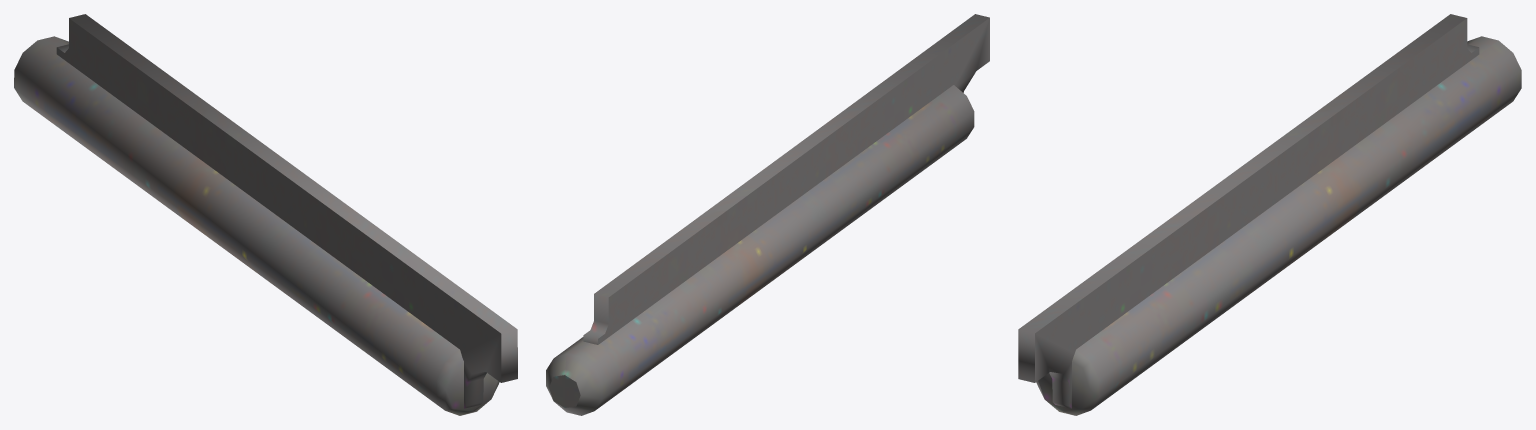
Rendered from acc5.obj.
3 views of the same model, side by side, from view 1: azimuth 30°, elevation 25°; view 2: azimuth 150°, elevation 25°; view 3: azimuth 330°, elevation 25° (orthographic). The views are drawn at different scales.
Parts seen in each view (by area): view 1: acc5; view 2: acc5; view 3: acc5.
Boxes of the visible parts, box(x1,y1,x2,y2) form: acc5: box(14, 14, 517, 415); acc5: box(546, 14, 989, 415); acc5: box(1018, 14, 1521, 415).
Size of the model in its own units: 3.45 by 5.84 by 44.6.
